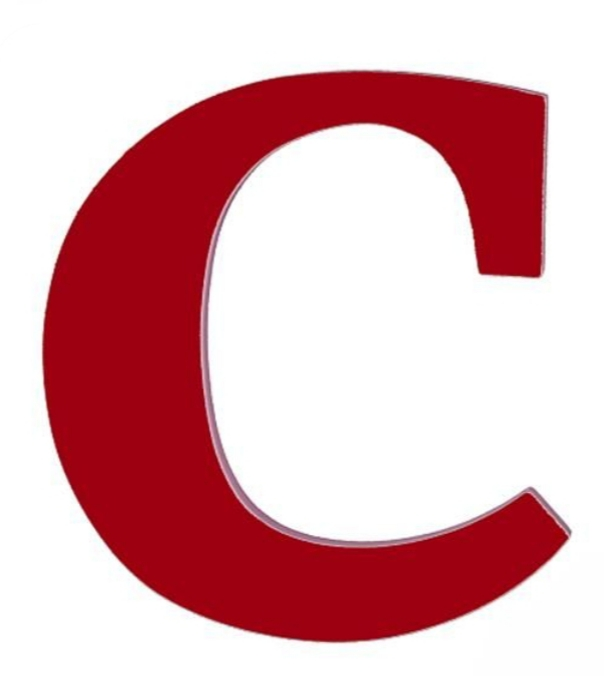zone C: (35, 41, 594, 653)
